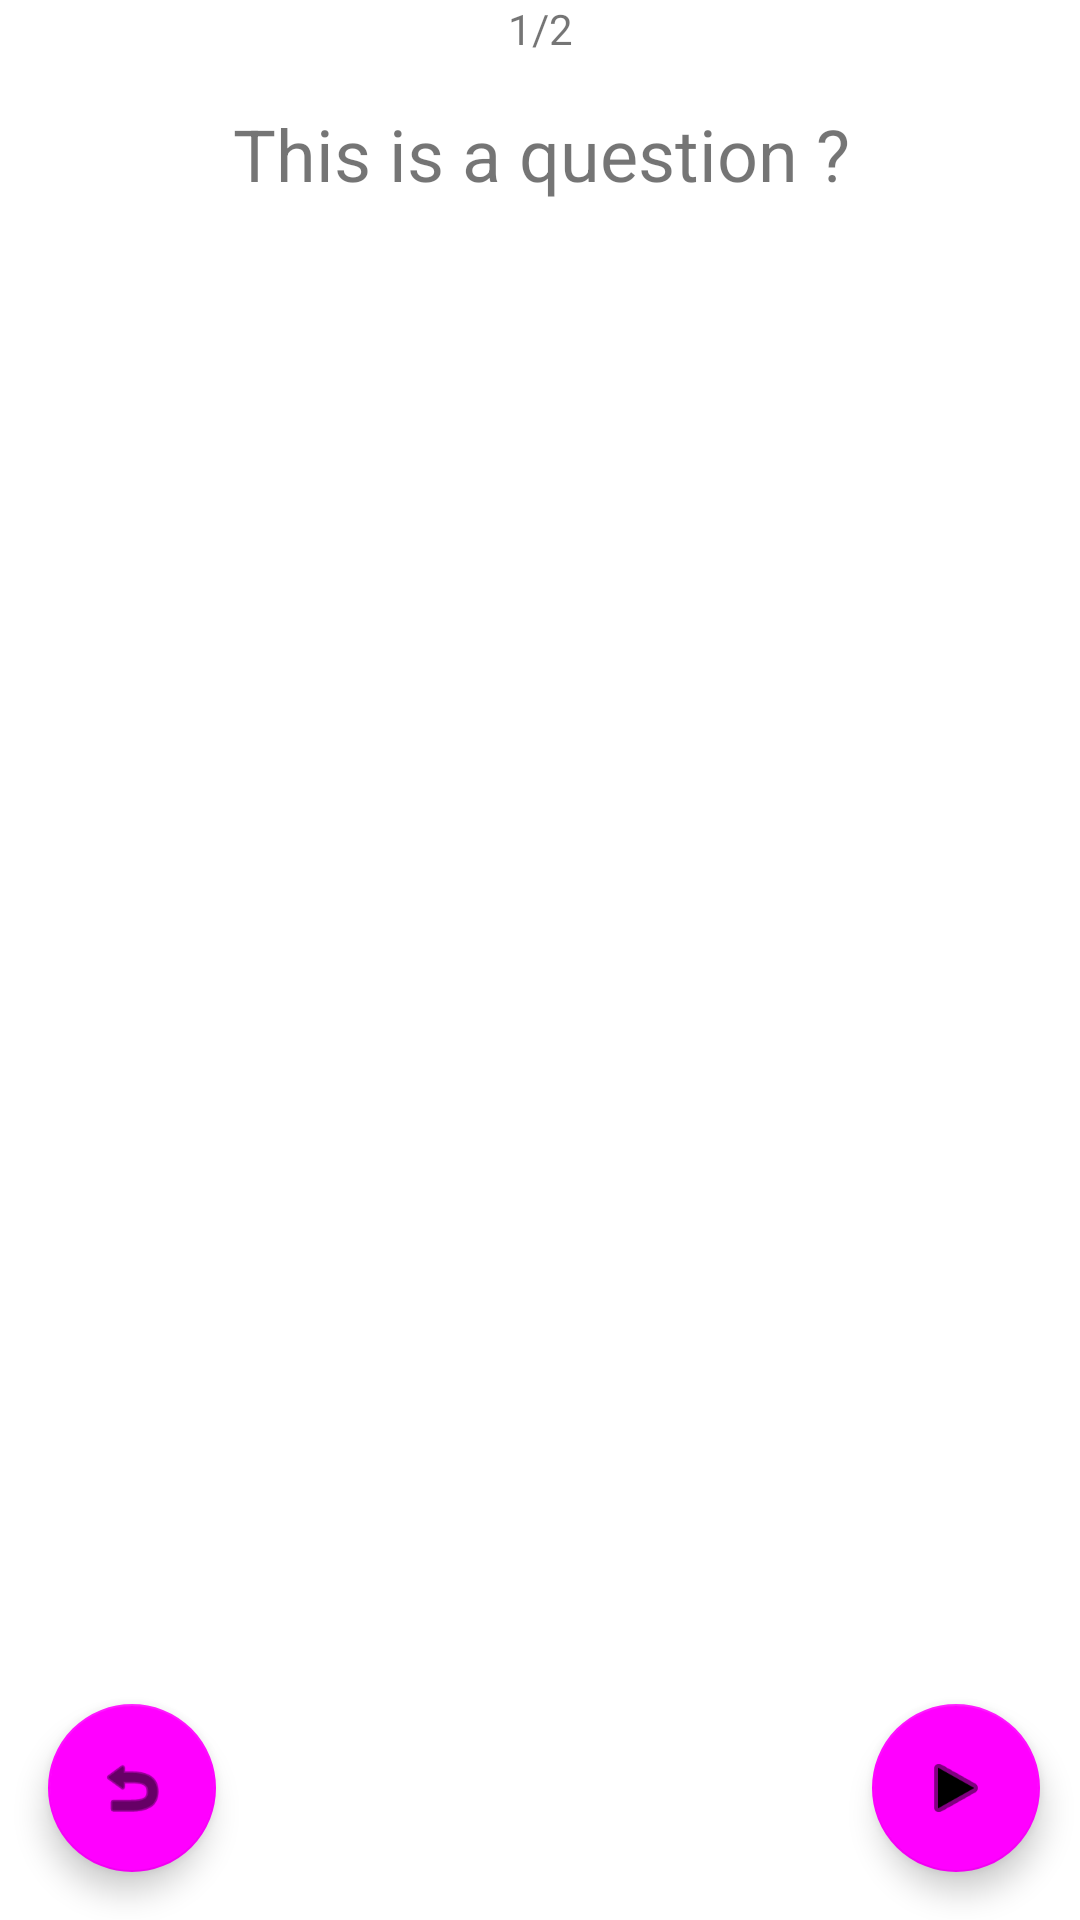

Screen size 1080*1920. Icon name, then its center in pixels as [x,y]:
play: [956,1788]
revert: [132,1788]
